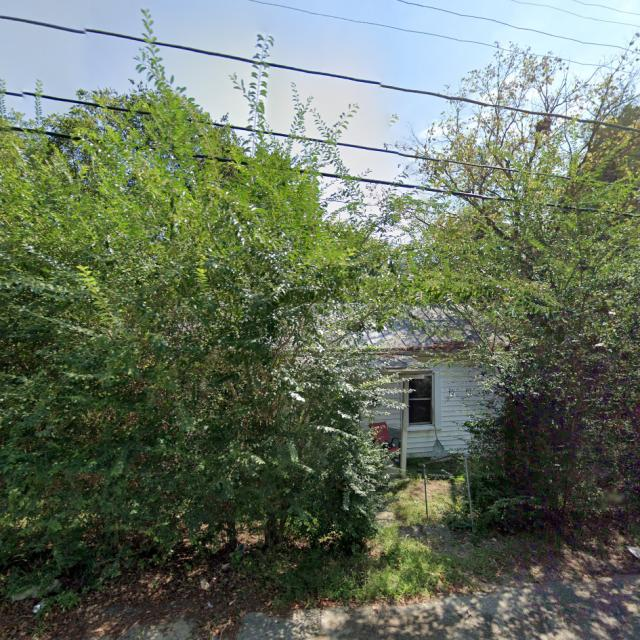House: (277, 304, 505, 478)
